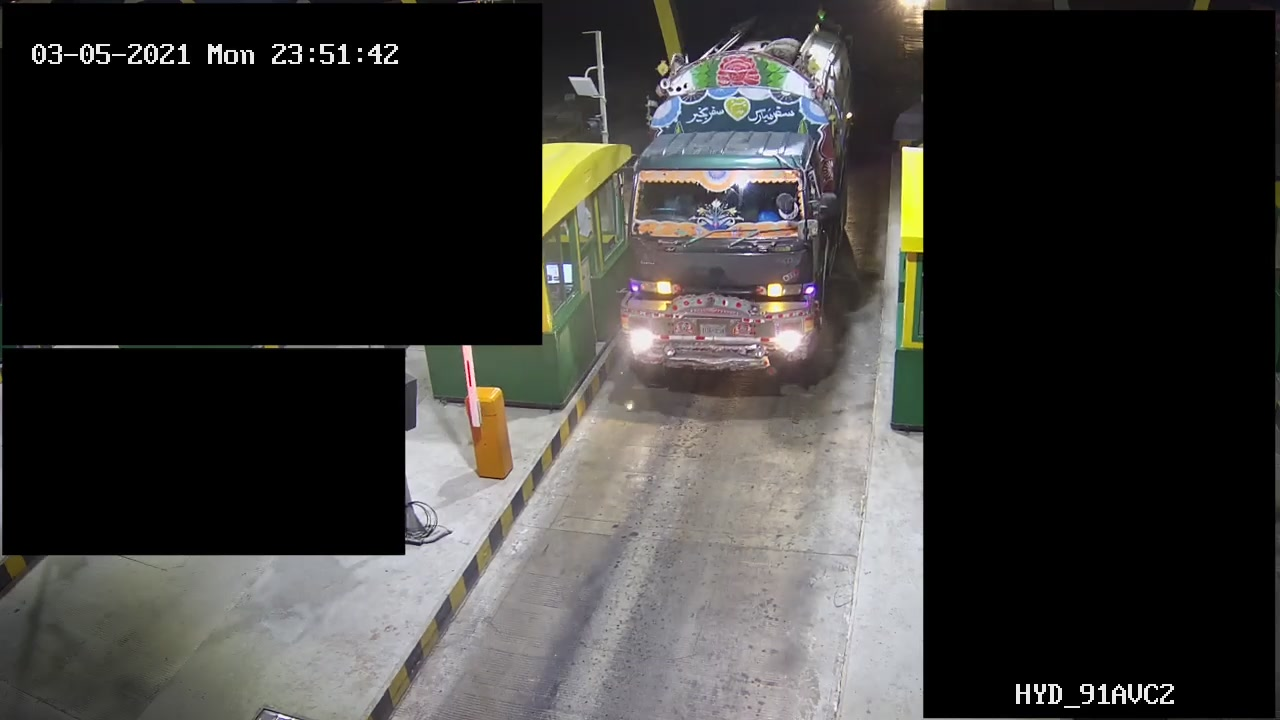F6: (618, 20, 861, 388)
